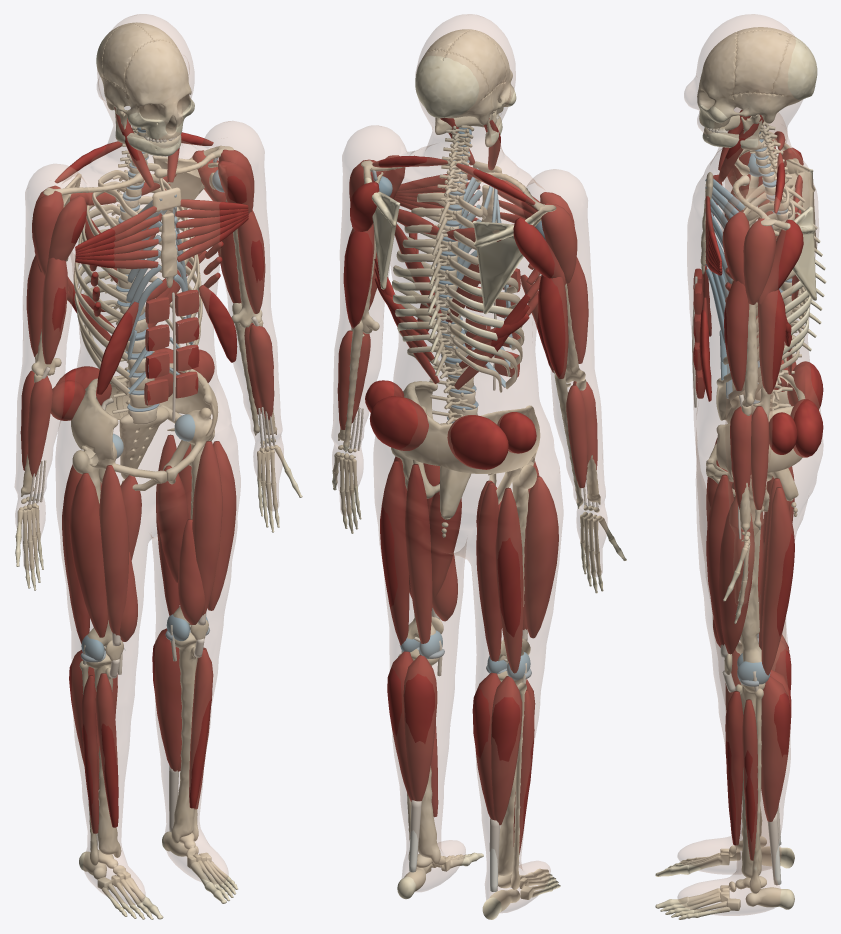
The model's file is medicine_skeleton.glb.
The picture shows the model from 3 angles, left to right: view 1: azimuth 30°, elevation 25°; view 2: azimuth 150°, elevation 25°; view 3: azimuth 270°, elevation 25°; orthographic projection. The views are drawn at different scales.
Parts seen in each view (by area): view 1: skin_geo, muscle_geo, bone_pelvis_geo, bone_ribs_geo, tissue_cartilage_geo, bone_tibia_geo, bone_frontal_geo, tissue_tendons_geo, bone_parietal_geo, bone_tarsals_geo, bone_hand_phalanges_geo, bone_scapula_geo (+16 smaller); view 2: skin_geo, muscle_geo, bone_ribs_geo, bone_scapula_geo, bone_pelvis_geo, bone_occipital_geo, bone_thoracic_geo, tissue_cartilage_geo, bone_tibia_geo, bone_parietal_geo, bone_tarsals_geo, tissue_tendons_geo (+12 smaller); view 3: skin_geo, muscle_geo, tissue_cartilage_geo, bone_parietal_geo, bone_pelvis_geo, bone_ribs_geo, bone_scapula_geo, bone_tarsals_geo, bone_occipital_geo, bone_frontal_geo, bone_femur_geo, tissue_tendons_geo (+18 smaller).
Boxes of the visible parts, x1,y1,x2,y2 form: skin_geo: [14, 14, 283, 904]; muscle_geo: [20, 107, 274, 833]; bone_pelvis_geo: [71, 363, 218, 490]; bone_ribs_geo: [73, 163, 202, 394]; tissue_cartilage_geo: [80, 157, 224, 662]; bone_tibia_geo: [86, 632, 197, 857]; bone_frontal_geo: [125, 39, 191, 114]; tissue_tendons_geo: [28, 292, 274, 850]; bone_parietal_geo: [102, 22, 180, 92]; bone_tarsals_geo: [79, 831, 211, 889]; bone_hand_phalanges_geo: [15, 468, 302, 590]; bone_scapula_geo: [43, 145, 233, 261]; skin_geo: [331, 14, 607, 912]; muscle_geo: [337, 117, 597, 854]; bone_ribs_geo: [392, 192, 524, 392]; bone_scapula_geo: [361, 160, 556, 314]; bone_pelvis_geo: [398, 381, 540, 504]; bone_occipital_geo: [415, 49, 488, 118]; bone_thoracic_geo: [427, 192, 467, 375]; tissue_cartilage_geo: [370, 168, 545, 680]; bone_tibia_geo: [410, 648, 522, 876]; bone_parietal_geo: [425, 29, 505, 94]; bone_tarsals_geo: [397, 854, 533, 919]; tissue_tendons_geo: [349, 301, 598, 891]; skin_geo: [677, 14, 823, 915]; muscle_geo: [693, 109, 823, 860]; tissue_cartilage_geo: [705, 151, 773, 686]; bone_parietal_geo: [732, 27, 790, 94]; bone_pelvis_geo: [706, 371, 805, 511]; bone_ribs_geo: [723, 172, 811, 400]; bone_scapula_geo: [749, 131, 816, 300]; bone_tarsals_geo: [720, 836, 794, 910]; bone_occipital_geo: [770, 33, 817, 105]; bone_frontal_geo: [698, 32, 737, 109]; bone_femur_geo: [740, 475, 766, 662]; tissue_tendons_geo: [692, 276, 781, 885].
Bounding box in the file's own units: 0.6206 × 1.78 × 0.3157.
